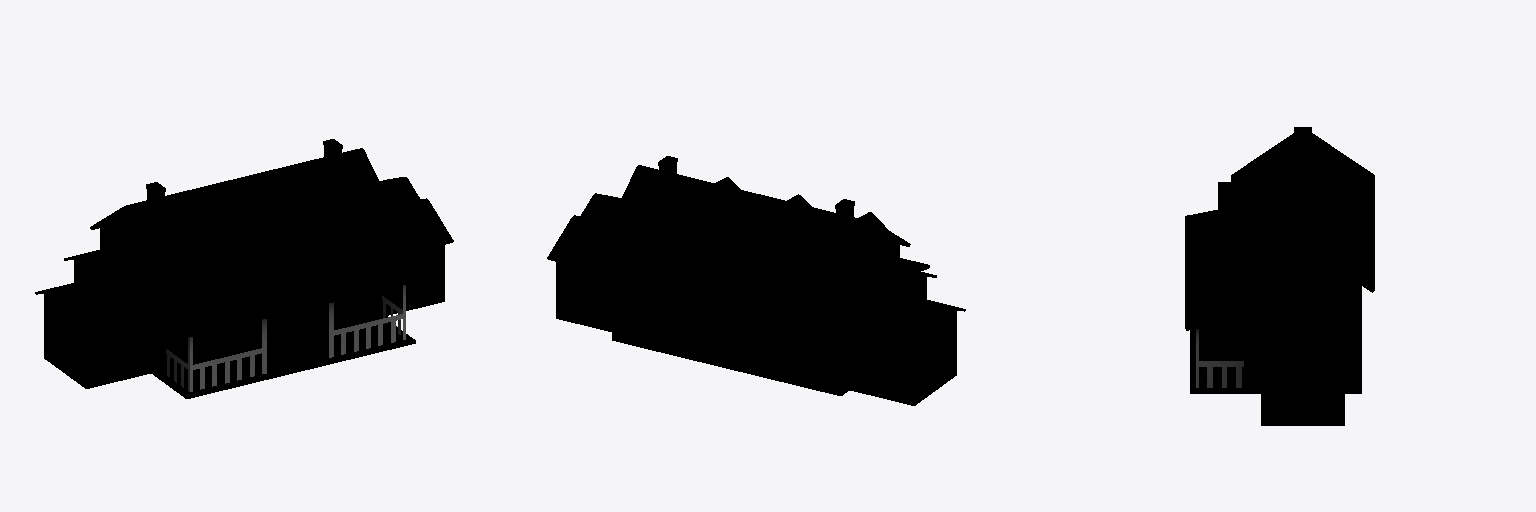
The picture shows the model from 3 angles: view 1: azimuth 30°, elevation 25°; view 2: azimuth 150°, elevation 25°; view 3: azimuth 270°, elevation 25°; orthographic projection.
Visible parts, largest first — view 1: polySurface129; view 2: polySurface129; view 3: polySurface129.
Boxes of the visible parts, x1=… form: polySurface129: x1=35, y1=139, x2=453, y2=398; polySurface129: x1=547, y1=156, x2=965, y2=405; polySurface129: x1=1185, y1=127, x2=1374, y2=425.
Bounding box in the file's own units: 23.85 × 10.26 × 10.68.
2 materials, 1 textured.